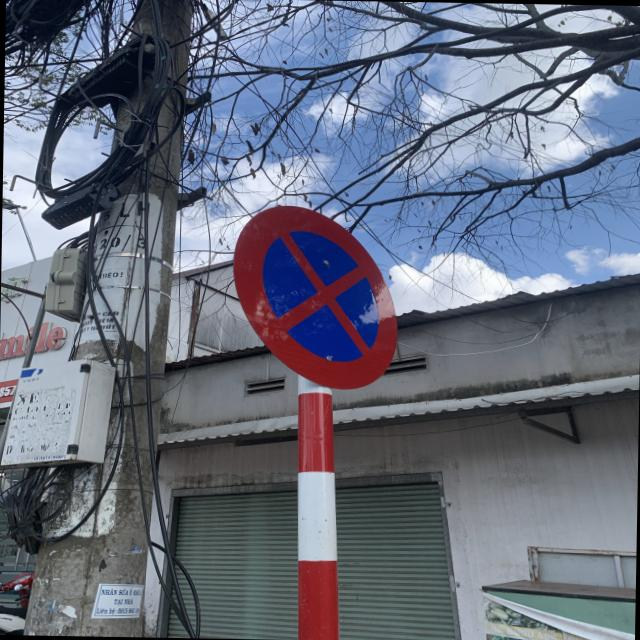Cam_Dung_Va_Dau_Xe: (232, 203, 404, 391)
